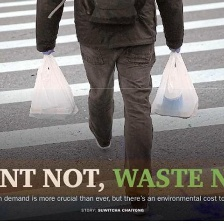plastic_bag: (27, 51, 81, 124), (148, 47, 199, 123)
